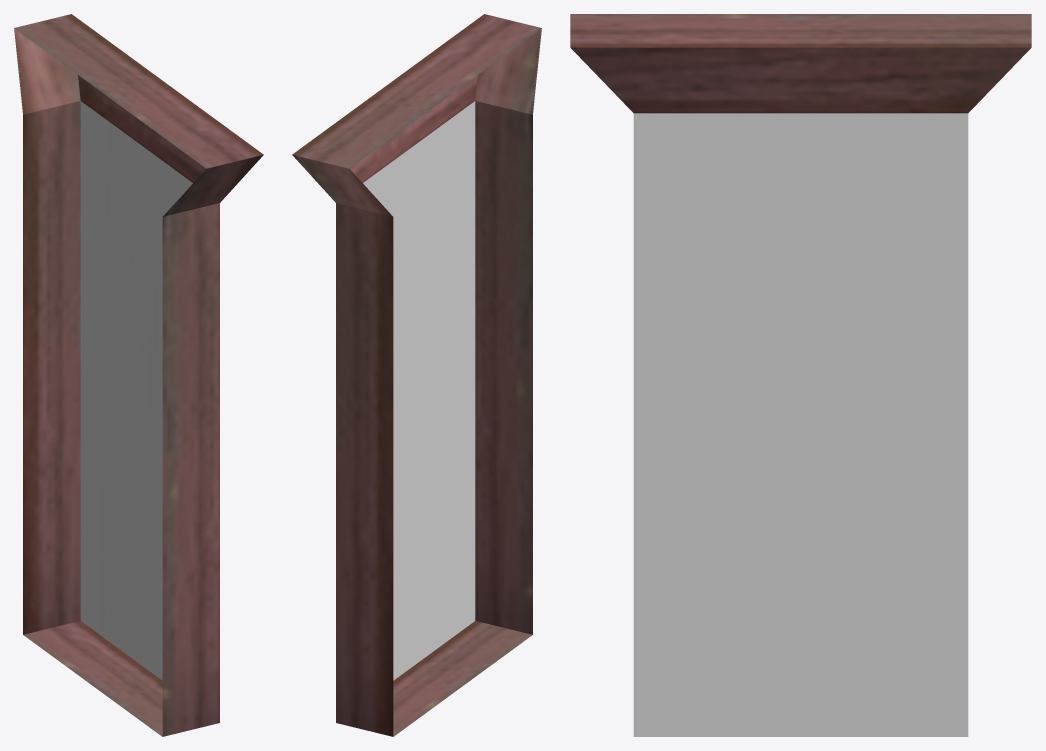
File: door1.fbx
The picture shows the model from 3 angles, left to right: view 1: azimuth 30°, elevation 25°; view 2: azimuth 150°, elevation 25°; view 3: azimuth 270°, elevation 25°; orthographic projection. The views are drawn at different scales.
Parts seen in each view (by area): view 1: Door; view 2: Door; view 3: Door.
Boxes of the visible parts, box(x1,y1,x2,y2) form: Door: box(14, 14, 263, 736); Door: box(292, 14, 541, 736); Door: box(570, 14, 1031, 736).
Size of the model in its own units: 30.18 by 134 by 224.
